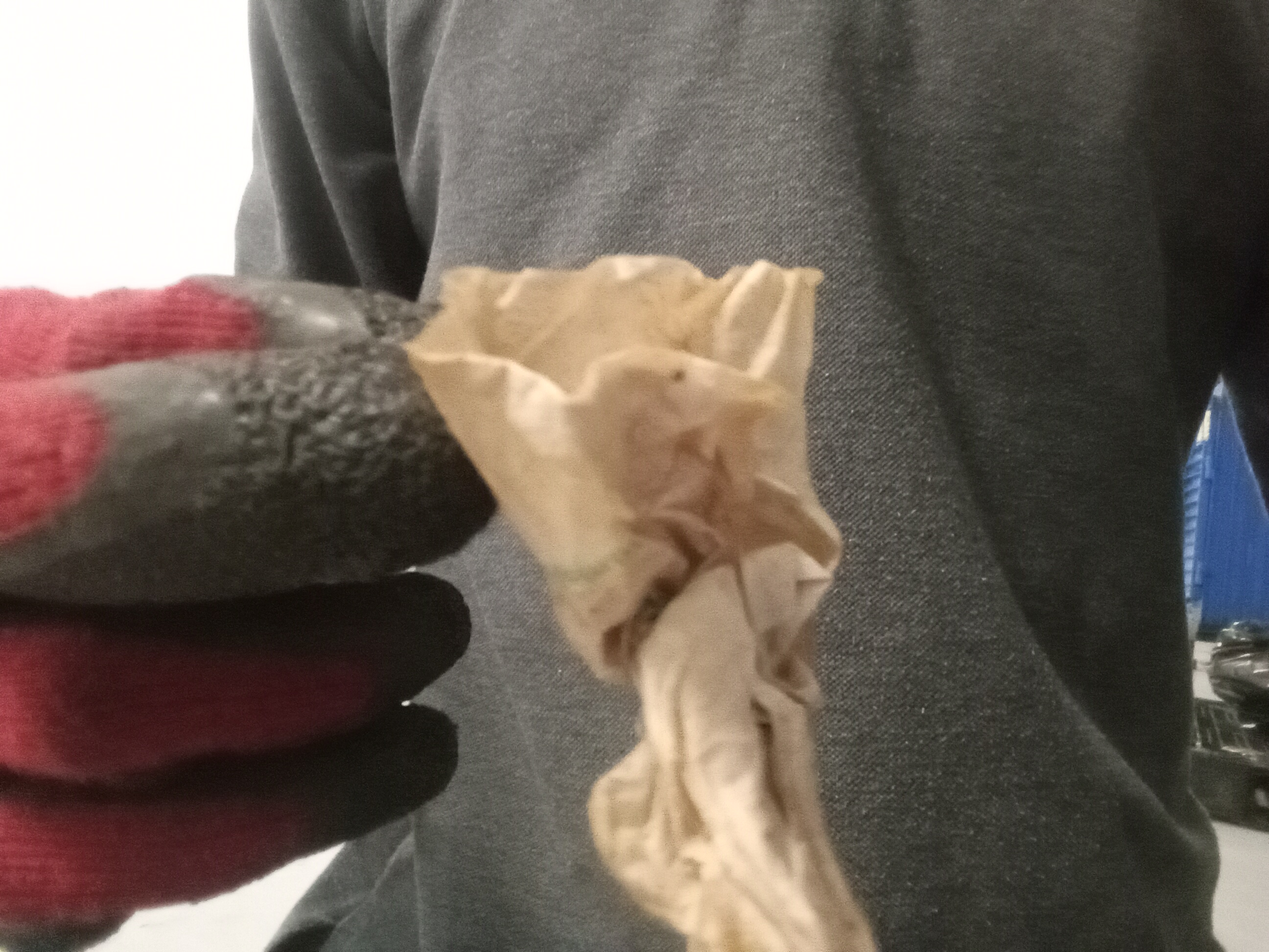Ordinario: (409, 256, 877, 952)
